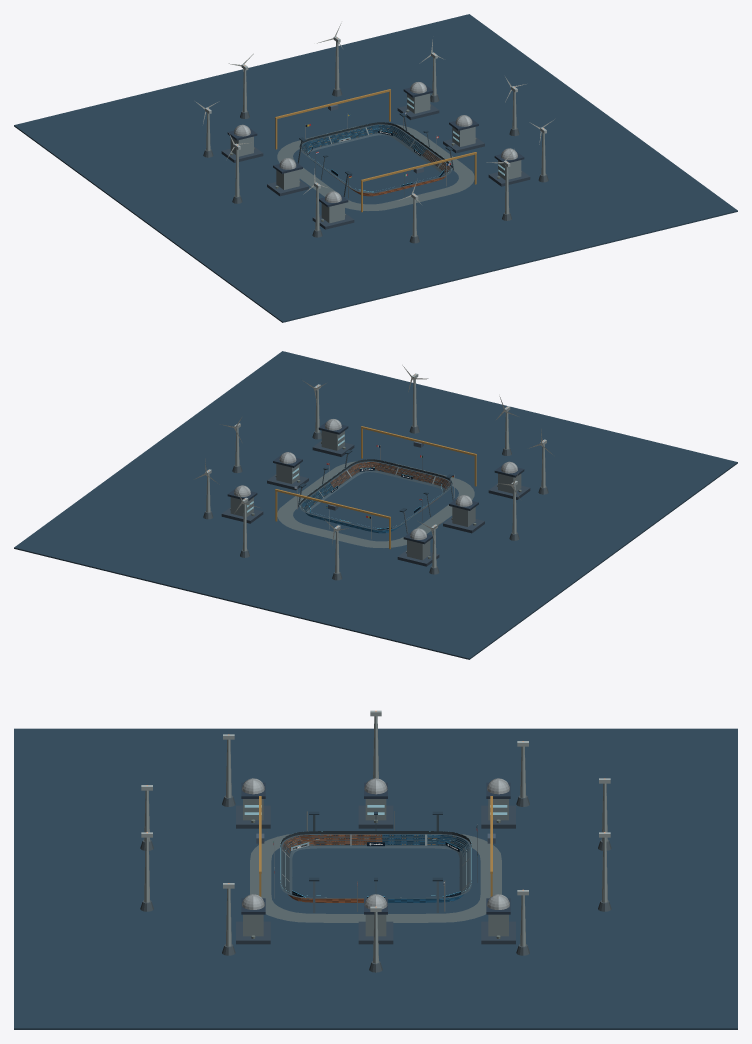
File: tempest-v2.glb
3 views of the same model, one above another, from view 1: azimuth 30°, elevation 25°; view 2: azimuth 150°, elevation 25°; view 3: azimuth 270°, elevation 25° (orthographic). The views are drawn at different scales.
Visible parts, largest first — view 1: Arena architecture / tempest; view 2: Arena architecture / tempest; view 3: Arena architecture / tempest, Arena lettering and light ribbons / tempest.
Part boxes in pixels (box(x1,y1,x2,y2)): Arena architecture / tempest: box(14, 14, 737, 322); Arena architecture / tempest: box(14, 351, 737, 659); Arena architecture / tempest: box(14, 710, 737, 1029); Arena lettering and light ribbons / tempest: box(146, 710, 605, 907).
Size of the model in its own units: 61300 by 9210 by 62600.
Materials: 4 (2 with a texture image).
